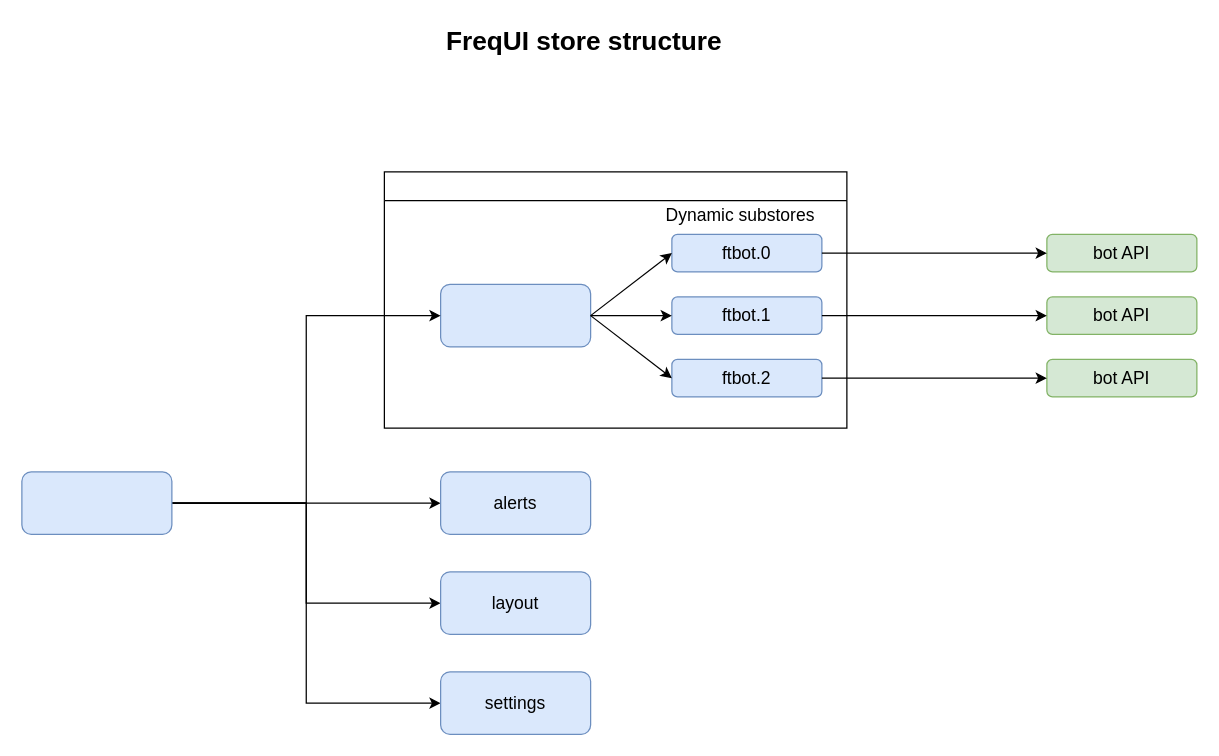
The diagram is 1219 pixels wide and 756 high, and some of its shapes have lost their labels. The shapes that lost their labels are listed below. From the top down, each one's box as (x1, y1, x2, y2) in pixels, then its label:
(439, 283, 591, 347): BotstoreWrapper
(383, 171, 847, 428): ftbot Store module
(21, 471, 172, 534): Vuex Store
